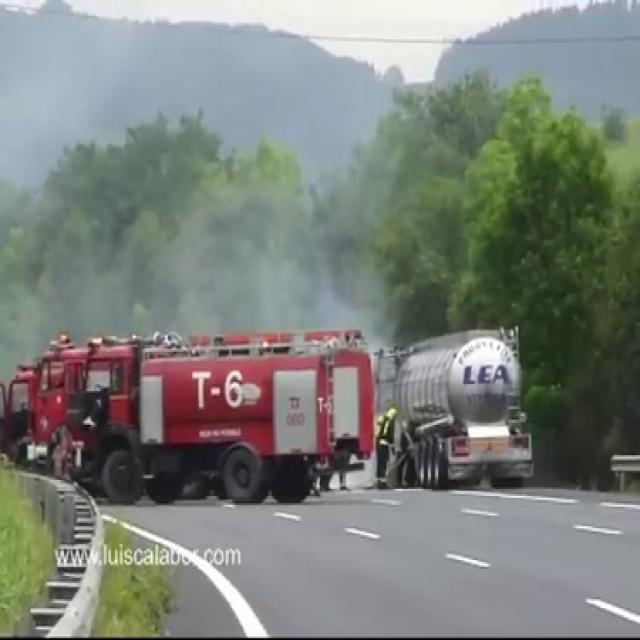Smoke: (136, 140, 397, 348)
